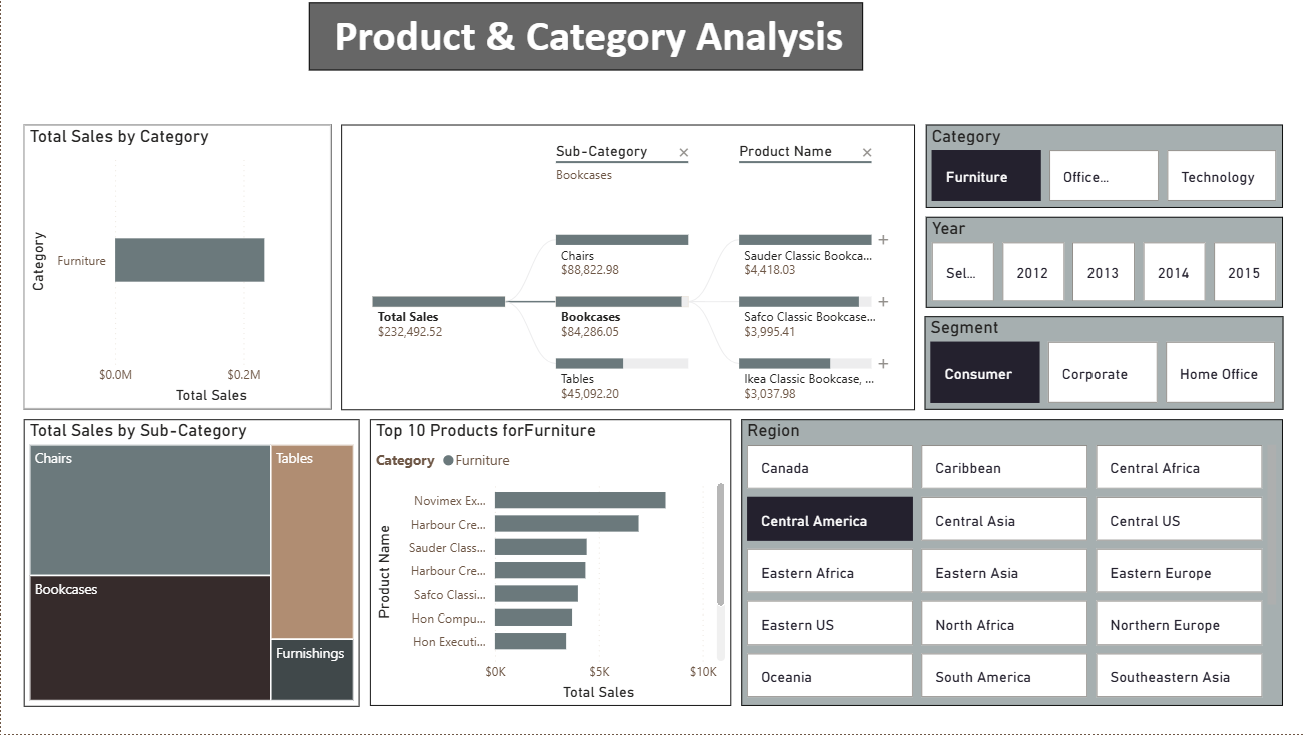

Layout of this report page (visuals, bound fields, positions):
{"tool":"powerbi","page":{"name":"Product and Category Analysis","canvas":[1280,720],"ordinal":2},"visuals":[{"type":"clusteredBarChart","fields":{"Category":["Orders.Category"],"Y":["Orders.Total Sales"]},"box":[22.6,122.1,302,279.3],"z":0},{"type":"treemap","fields":{"Group":["Orders.Sub-Category"],"Values":["Orders.Total Sales"]},"box":[22.9,411.4,330,281.4],"z":1000},{"type":"advancedSlicerVisual","fields":{"Values":["Orders.Order Date.Variation.Date Hierarchy.Year"]},"box":[908.5,212.6,349.8,89.3],"z":2000},{"type":"advancedSlicerVisual","fields":{"Values":["Orders.Segment"]},"box":[907.2,310.8,351.1,91.9],"z":3000},{"type":"advancedSlicerVisual","fields":{"Values":["Orders.Region"]},"box":[727.3,411.4,531,280.6],"z":4000},{"type":"textbox","box":[302.9,2.9,544.3,67.1],"z":5000},{"type":"decompositionTreeVisual","fields":{"Analyze":["Orders.Total Sales"],"ExplainBy":["Orders.Product Name","Orders.Category","Orders.Sub-Category"]},"box":[334.7,122.1,563.7,280.6],"z":6000},{"type":"clusteredBarChart","fields":{"Category":["Orders.Product Name"],"Y":["Orders.Total Sales"],"Series":["Orders.Category"]},"box":[362.4,411.4,354.8,280.6],"z":7000},{"type":"advancedSlicerVisual","fields":{"Values":["Orders.Category"]},"box":[908.5,122.1,349.8,81.8],"z":8000}]}

Visuals, with their boxes in screenshot pixels (x1, y1, x2, y2), scaled from the page's 1280x720 canvas onto the 1305x735 screenshot:
clusteredBarChart - Orders.Category x Orders.Total Sales: x1=23, y1=125, x2=331, y2=410
treemap - Orders.Sub-Category x Orders.Total Sales: x1=23, y1=420, x2=360, y2=707
advancedSlicerVisual - Orders.Order Date.Variation.Date Hierarchy.Year: x1=926, y1=217, x2=1283, y2=308
advancedSlicerVisual - Orders.Segment: x1=925, y1=317, x2=1283, y2=411
advancedSlicerVisual - Orders.Region: x1=742, y1=420, x2=1283, y2=706
textbox: x1=309, y1=3, x2=864, y2=71
decompositionTreeVisual - Orders.Total Sales x Orders.Product Name: x1=341, y1=125, x2=916, y2=411
clusteredBarChart - Orders.Product Name x Orders.Total Sales: x1=369, y1=420, x2=731, y2=706
advancedSlicerVisual - Orders.Category: x1=926, y1=125, x2=1283, y2=208
